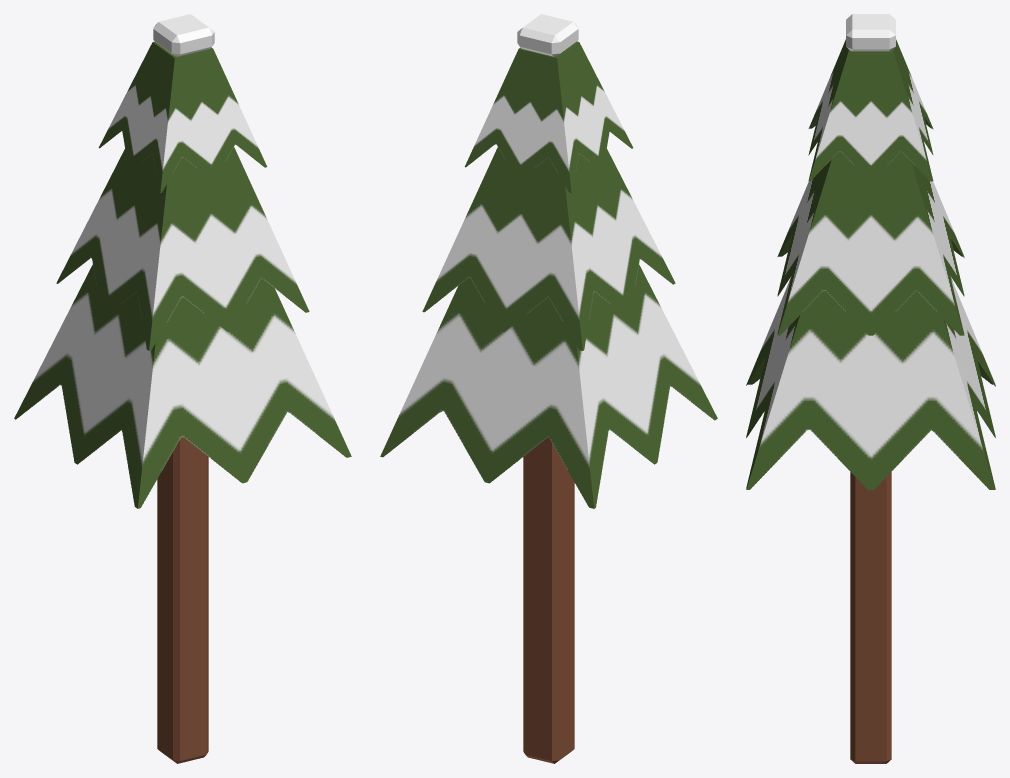
The model's file is Tree 3.fbx.
3 views of the same model, side by side, from view 1: azimuth 30°, elevation 25°; view 2: azimuth 150°, elevation 25°; view 3: azimuth 270°, elevation 25° (orthographic).
Visible parts, largest first — view 1: Spruce_Crown_3, Spruce_Crown_2, Trunk, Spruce_Crown_1, Snow_1; view 2: Spruce_Crown_3, Spruce_Crown_2, Trunk, Spruce_Crown_1, Snow_1; view 3: Spruce_Crown_3, Spruce_Crown_2, Trunk, Spruce_Crown_1, Snow_1.
Part boxes in pixels (left/top/right/bottom): Spruce_Crown_3: left=14, top=264, right=351, bottom=508; Spruce_Crown_2: left=56, top=147, right=309, bottom=350; Trunk: left=157, top=437, right=208, bottom=763; Spruce_Crown_1: left=98, top=41, right=267, bottom=192; Snow_1: left=153, top=14, right=214, bottom=56; Spruce_Crown_3: left=380, top=264, right=717, bottom=508; Spruce_Crown_2: left=422, top=147, right=675, bottom=350; Trunk: left=523, top=437, right=574, bottom=763; Spruce_Crown_1: left=464, top=41, right=633, bottom=192; Snow_1: left=517, top=14, right=578, bottom=56; Spruce_Crown_3: left=746, top=277, right=995, bottom=489; Spruce_Crown_2: left=777, top=151, right=964, bottom=335; Trunk: left=850, top=472, right=891, bottom=763; Spruce_Crown_1: left=808, top=39, right=933, bottom=181; Snow_1: left=846, top=14, right=895, bottom=51.
Bounding box in the file's own units: 1.2 × 3.91 × 1.2.
Materials: 1 (1 with a texture image).
